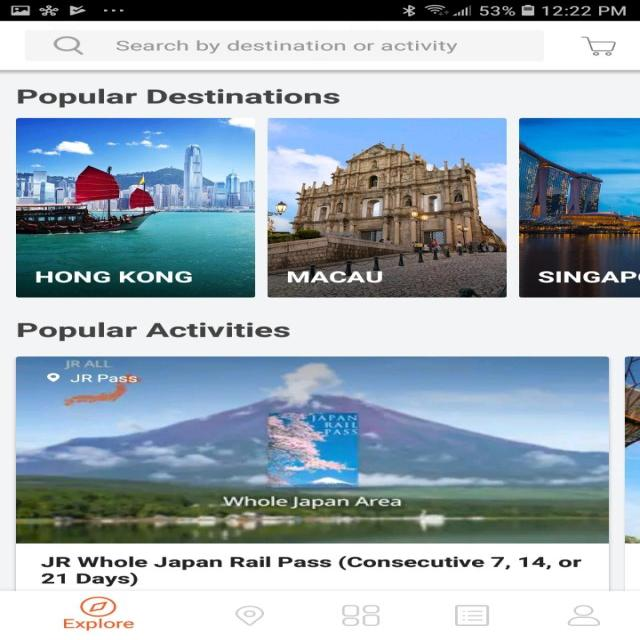EditText: (24, 30, 543, 61)
Icon: (340, 604, 380, 625), (80, 595, 116, 617), (454, 605, 489, 626), (580, 36, 616, 56), (566, 604, 600, 625), (234, 605, 264, 626), (54, 36, 84, 55), (48, 373, 61, 382)
Image: (16, 356, 608, 543), (266, 118, 506, 298), (16, 118, 255, 298), (518, 118, 639, 298), (624, 356, 639, 544)
Text: (39, 555, 582, 587), (17, 89, 340, 108), (18, 322, 290, 341), (115, 40, 457, 53), (222, 495, 401, 509), (36, 270, 192, 283), (538, 271, 640, 283), (287, 270, 382, 282), (63, 618, 134, 630), (70, 374, 137, 382)
